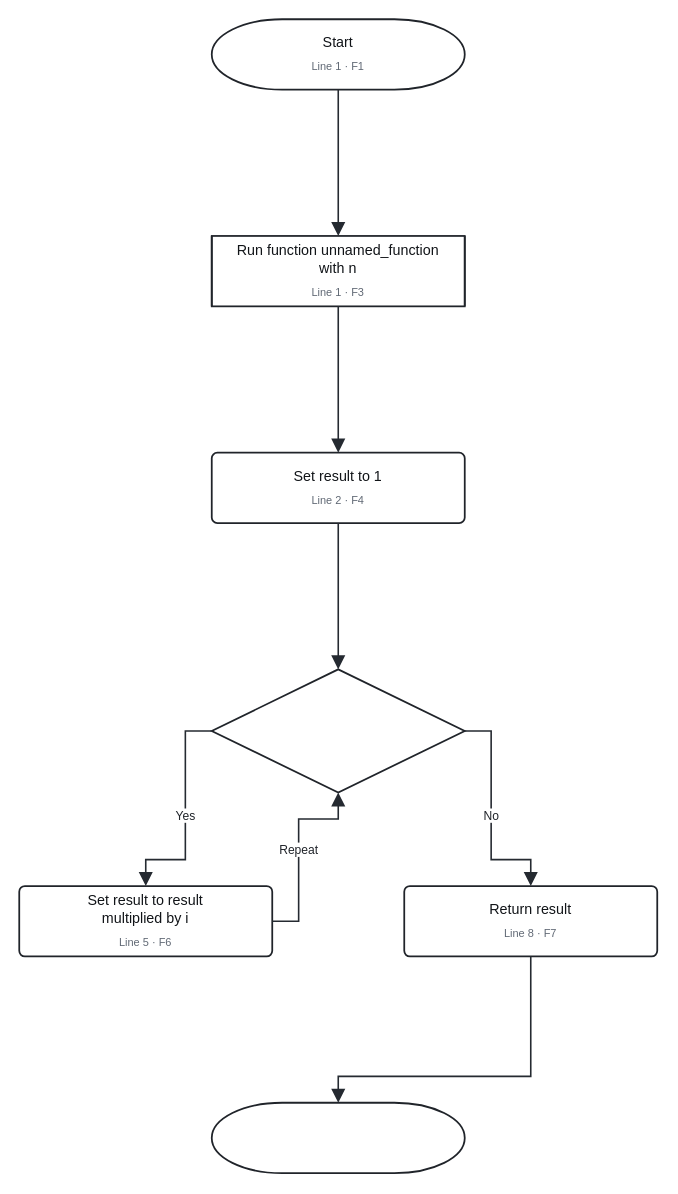
Image size: 678x1194. Some labels were removed from this diagram. Each missing label, with the box of its shape:
End Line 1 · F2: (210, 1101, 465, 1173)
For i from 2 to n plus 1 Line 4 · F5: (210, 668, 465, 793)
